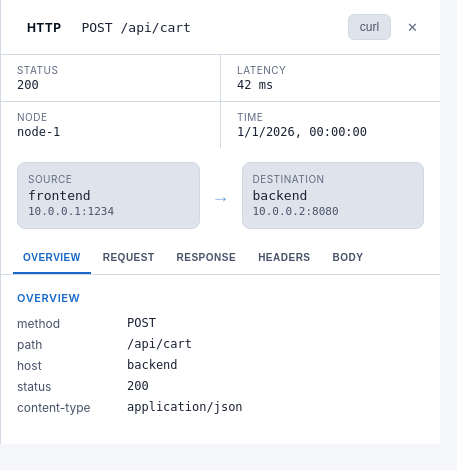
Scenario: EntryDetail › pretty-prints and highlights a JSON body
Click the tab "body" at {"x": 348, "y": 258}, box left=322, top=243, right=373, bottom=274
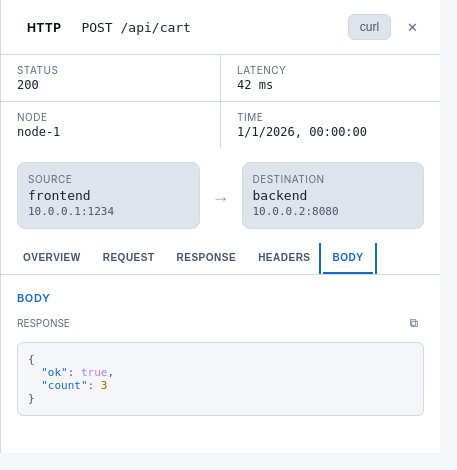
expect the element with class "body" is shown: met, box left=17, top=342, right=424, bottom=416
expect the element with class "body" shows "\"ok\"": met, box left=41, top=366, right=74, bottom=379
